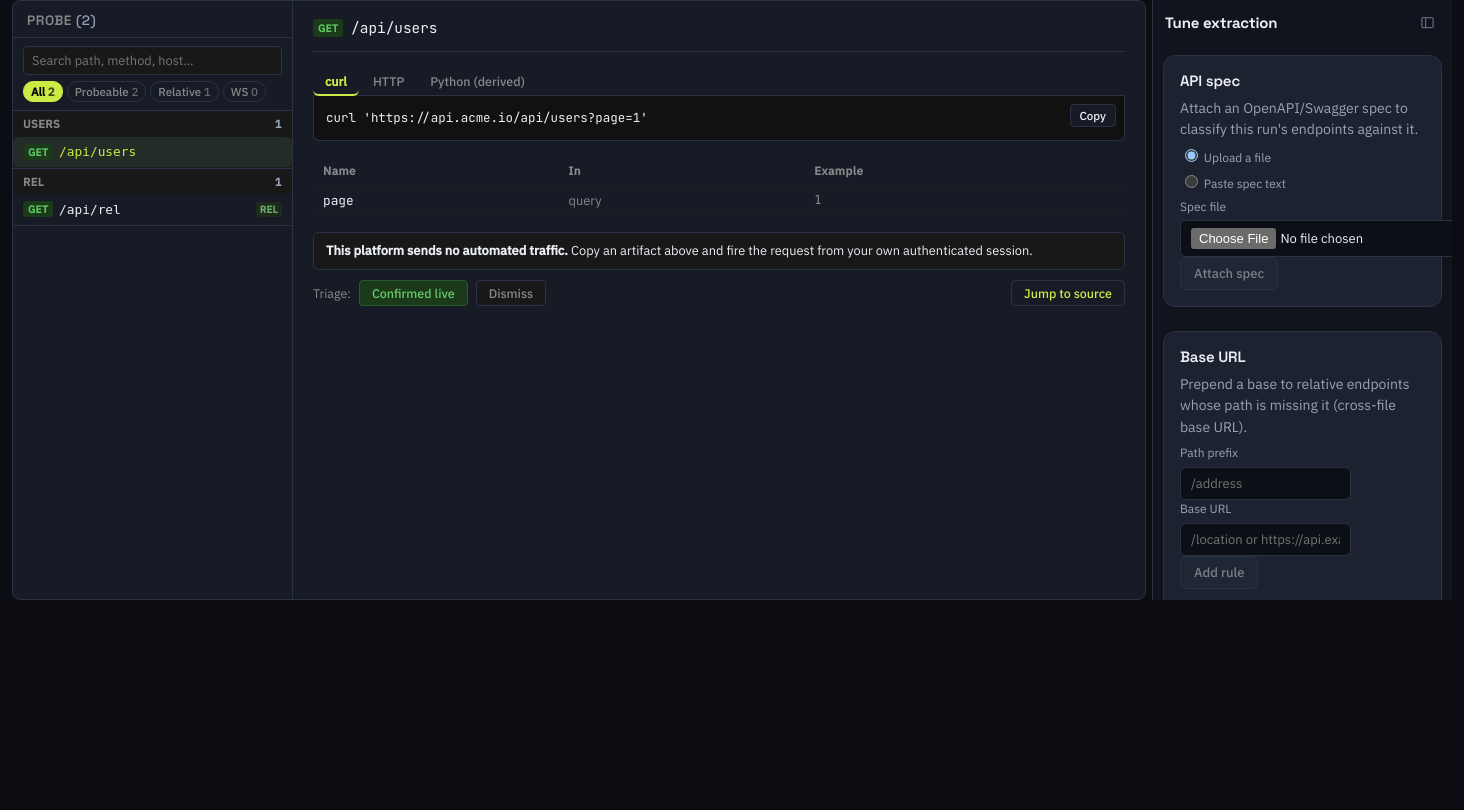
Scenario: ProbePanel › REQ-PB6: host-selector shown for relative request, hidden for absolute
Expected: the field labelled "resolve relative paths against" is not shown
# Click RELATIVE row → detail switches, selector appears
Click the text "/api/rel".
click(90, 209)  # box [59,202,121,216]
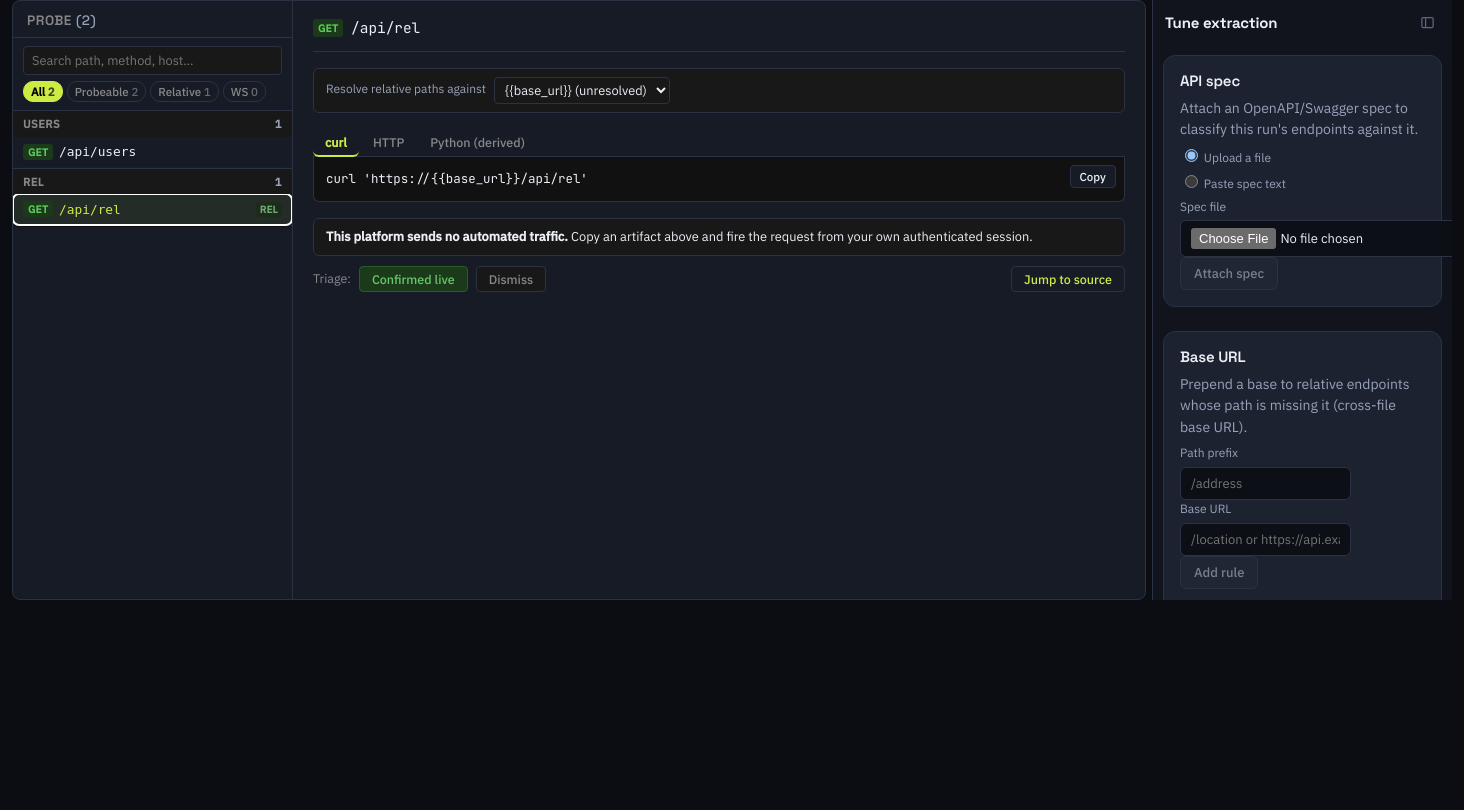
Expected: the dropdown labelled "Resolve relative paths against" is shown, [494,77,670,104]
